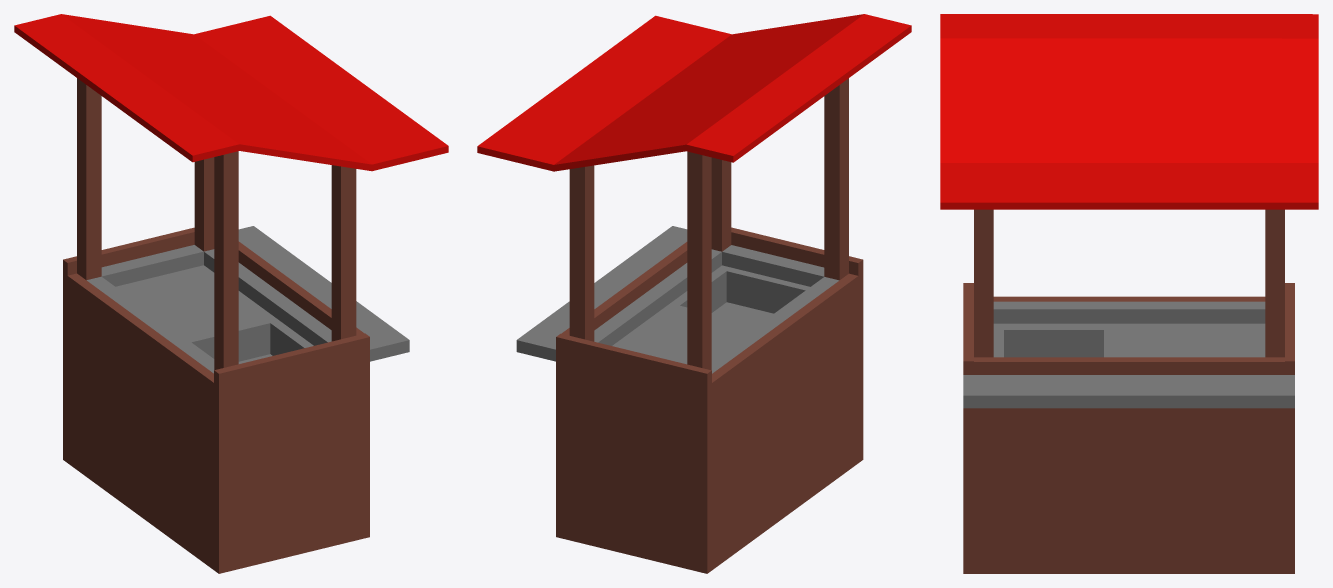
The model's file is tindahan_2.fbx.
3 views of the same model, side by side, from view 1: azimuth 30°, elevation 25°; view 2: azimuth 150°, elevation 25°; view 3: azimuth 270°, elevation 25° (orthographic). The views are drawn at different scales.
Visible parts, largest first — view 1: TINDAHAN1; view 2: TINDAHAN1; view 3: TINDAHAN1.
Boxes of the visible parts, box(x1,y1,x2,y2) form: TINDAHAN1: box(14, 14, 448, 573); TINDAHAN1: box(477, 14, 911, 573); TINDAHAN1: box(940, 14, 1318, 573).
Size of the model in its own units: 1363 by 2214 by 1642.
